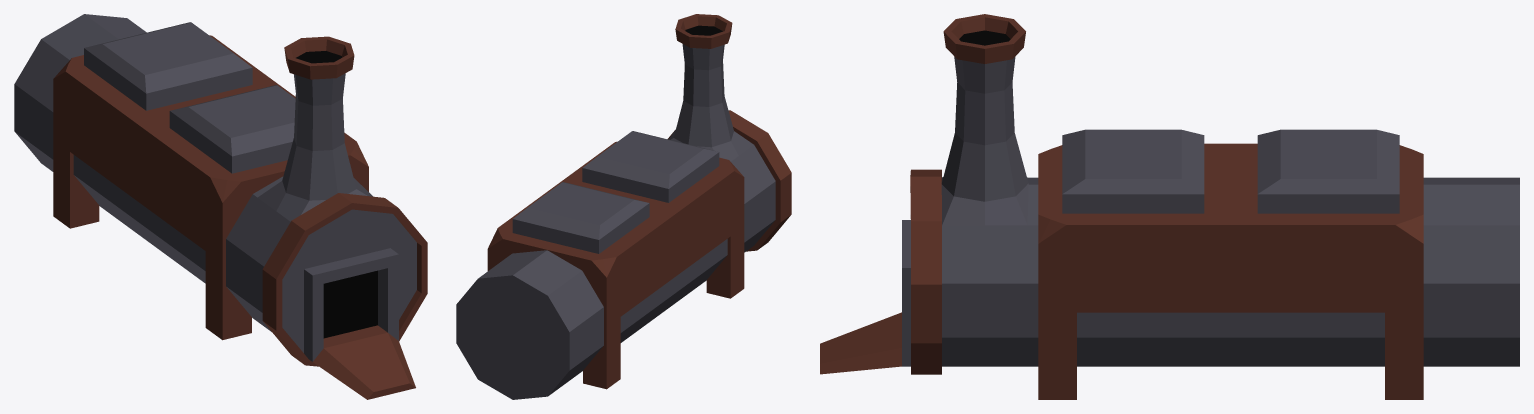
The model's file is Incinerator.fbx.
3 renders of one model, left to right at view 1: azimuth 30°, elevation 25°; view 2: azimuth 150°, elevation 25°; view 3: azimuth 270°, elevation 25°, orthographic. The views are drawn at different scales.
Parts seen in each view (by area): view 1: Cylinder; view 2: Cylinder; view 3: Cylinder.
Boxes of the visible parts, box(x1,y1,x2,y2) form: Cylinder: box(14, 14, 427, 399); Cylinder: box(456, 14, 791, 399); Cylinder: box(820, 14, 1519, 399).
Size of the model in its own units: 206 by 384 by 727.
